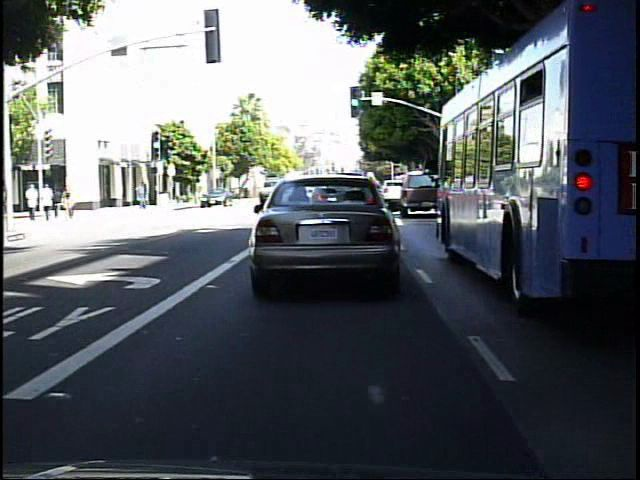person: (23, 181, 38, 223), (39, 182, 54, 223), (133, 179, 151, 213), (58, 182, 73, 221), (53, 188, 63, 221), (65, 183, 66, 222)
